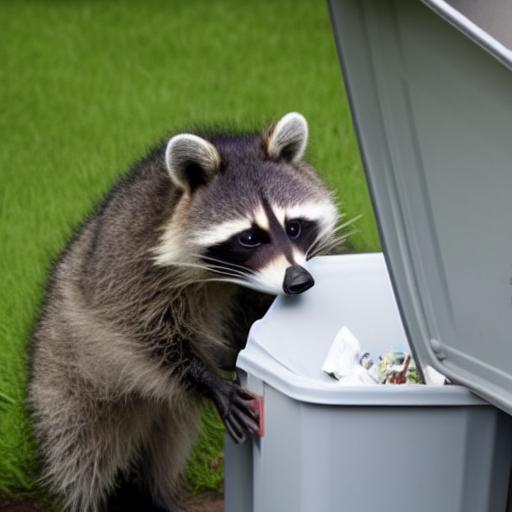raccoon: (0, 98, 359, 512)
